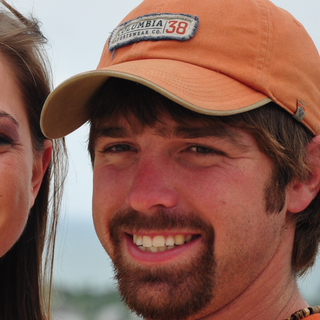eye: (172, 139, 231, 165), (95, 138, 141, 161)
